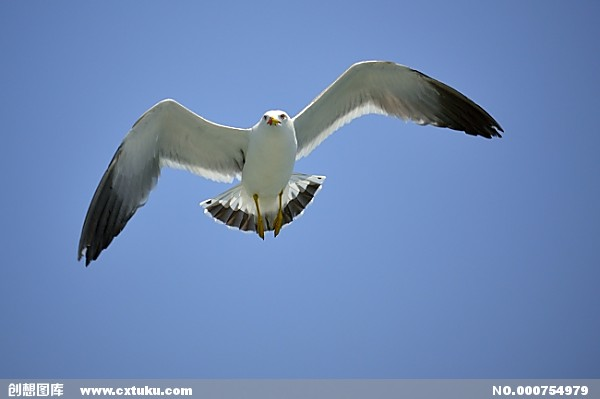bird: (69, 58, 504, 270)
